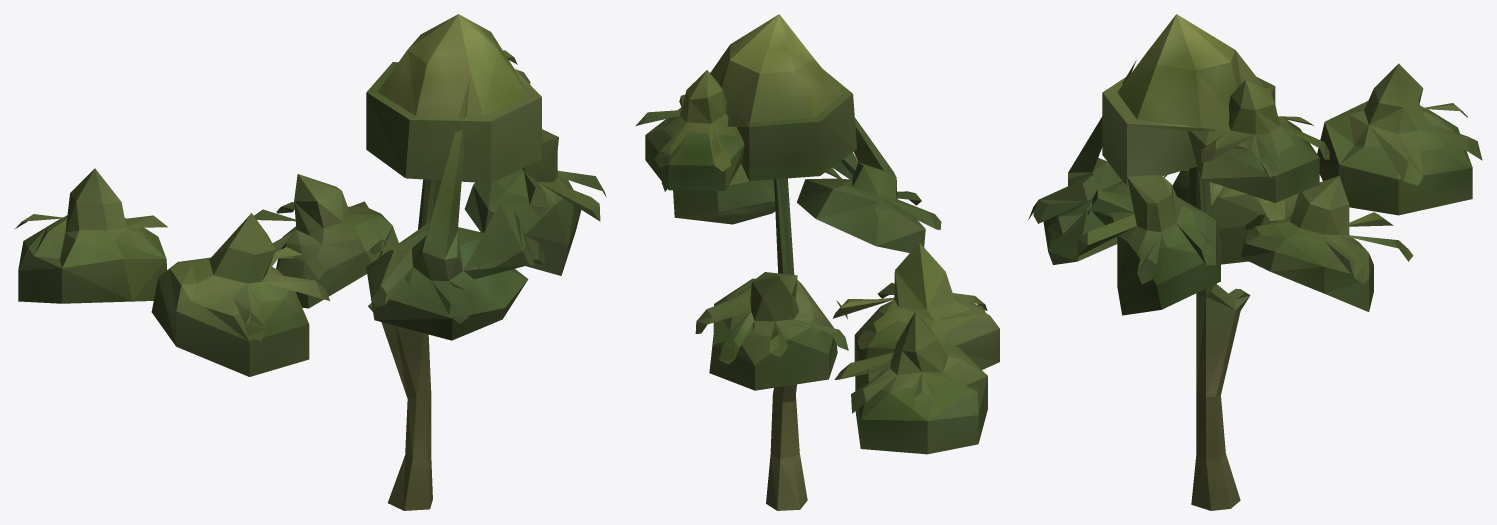
The model's file is tree_05.glb.
3 renders of one model, left to right at view 1: azimuth 30°, elevation 25°; view 2: azimuth 150°, elevation 25°; view 3: azimuth 270°, elevation 25°, orthographic. The views are drawn at different scales.
Visible parts, largest first — view 1: geometry_0; view 2: geometry_0; view 3: geometry_0.
Boxes of the visible parts, x1=… form: geometry_0: x1=14, y1=14, x2=606, y2=510; geometry_0: x1=635, y1=14, x2=999, y2=510; geometry_0: x1=1028, y1=14, x2=1482, y2=510.
Bounding box in the file's own units: 0.0527 × 0.0547 × 0.0449.
Materials: 1 (1 with a texture image).
